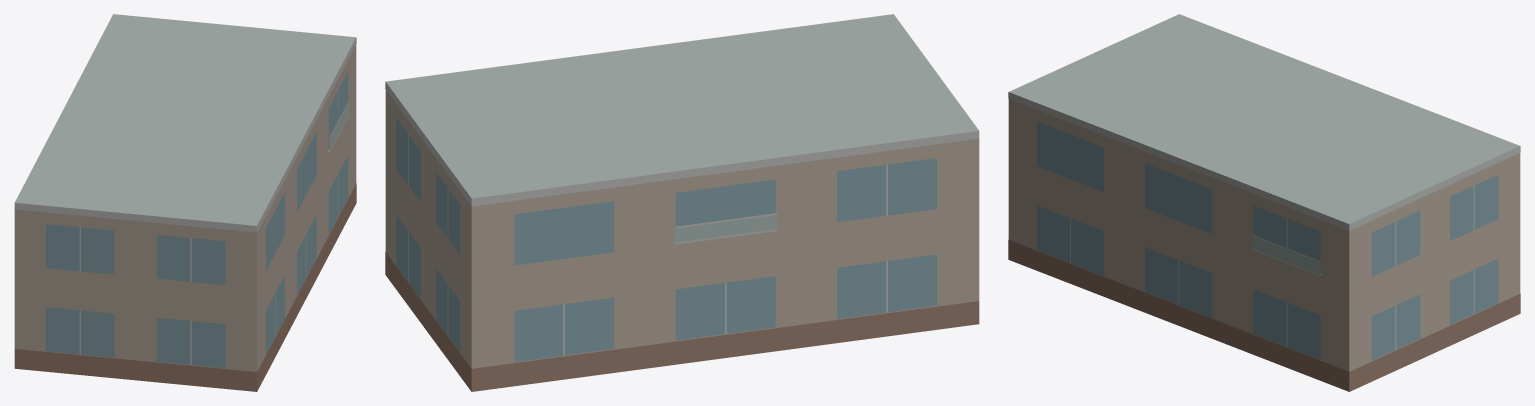
File: survey-upis-32701874.glb
3 views of the same model, side by side, from view 1: azimuth 30°, elevation 25°; view 2: azimuth 150°, elevation 25°; view 3: azimuth 270°, elevation 25° (orthographic). The views are drawn at different scales.
Parts seen in each view (by area): view 1: survey-upis-32701874.tmp; view 2: survey-upis-32701874.tmp; view 3: survey-upis-32701874.tmp.
Part boxes in pixels (bbox=[...]): survey-upis-32701874.tmp: bbox=[14, 14, 356, 391]; survey-upis-32701874.tmp: bbox=[385, 14, 979, 391]; survey-upis-32701874.tmp: bbox=[1008, 14, 1520, 391].
Size of the model in its own units: 16.4 by 6.1 by 16.88.
